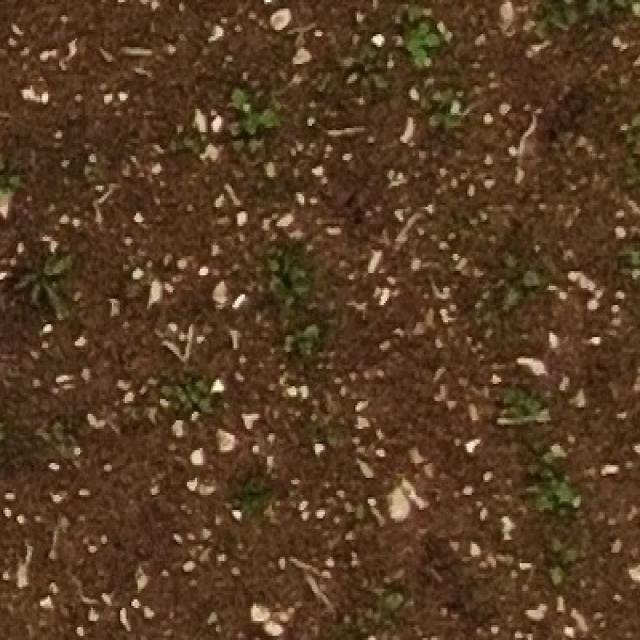cirse: (24, 242, 82, 326), (21, 230, 77, 316), (24, 234, 81, 316)
